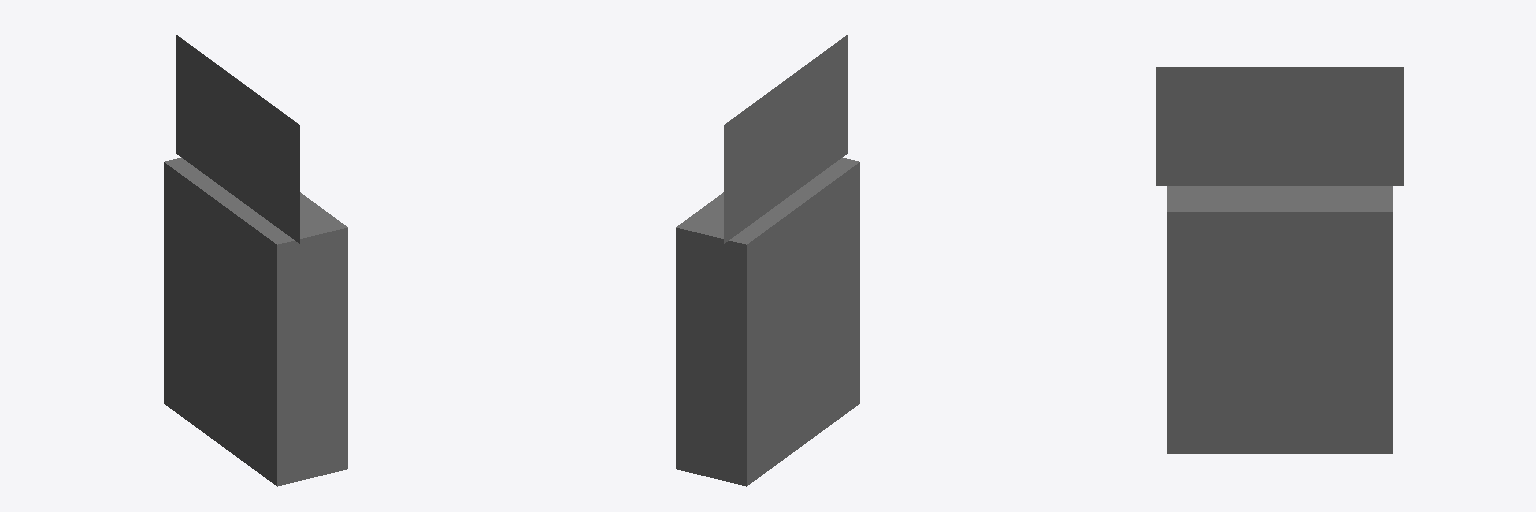
Rendered from barkely_hide_bones.obj.
3 renders of one model, left to right at view 1: azimuth 30°, elevation 25°; view 2: azimuth 150°, elevation 25°; view 3: azimuth 270°, elevation 25°, orthographic.
Bounding box in the file's own units: 0.04 × 0.194 × 0.121.